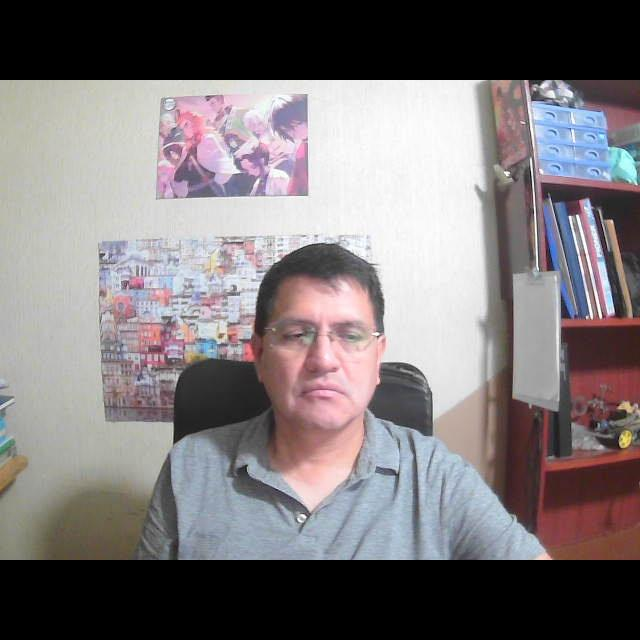cesar: (236, 227, 406, 466)
